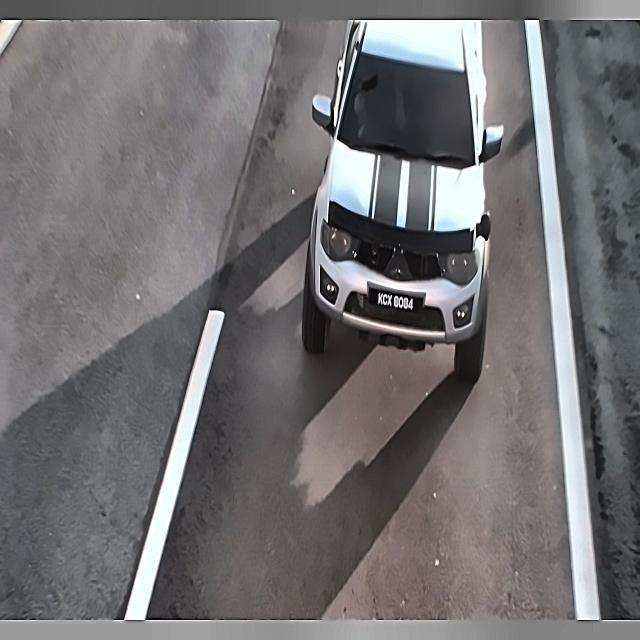car: (362, 277, 423, 326)
